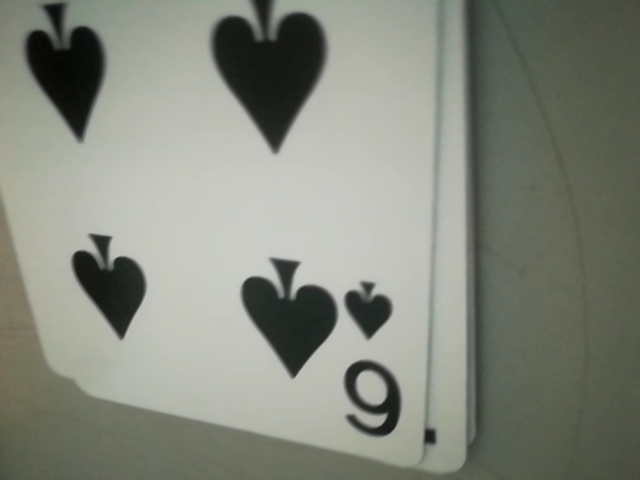ht 6: (336, 271, 418, 452)
